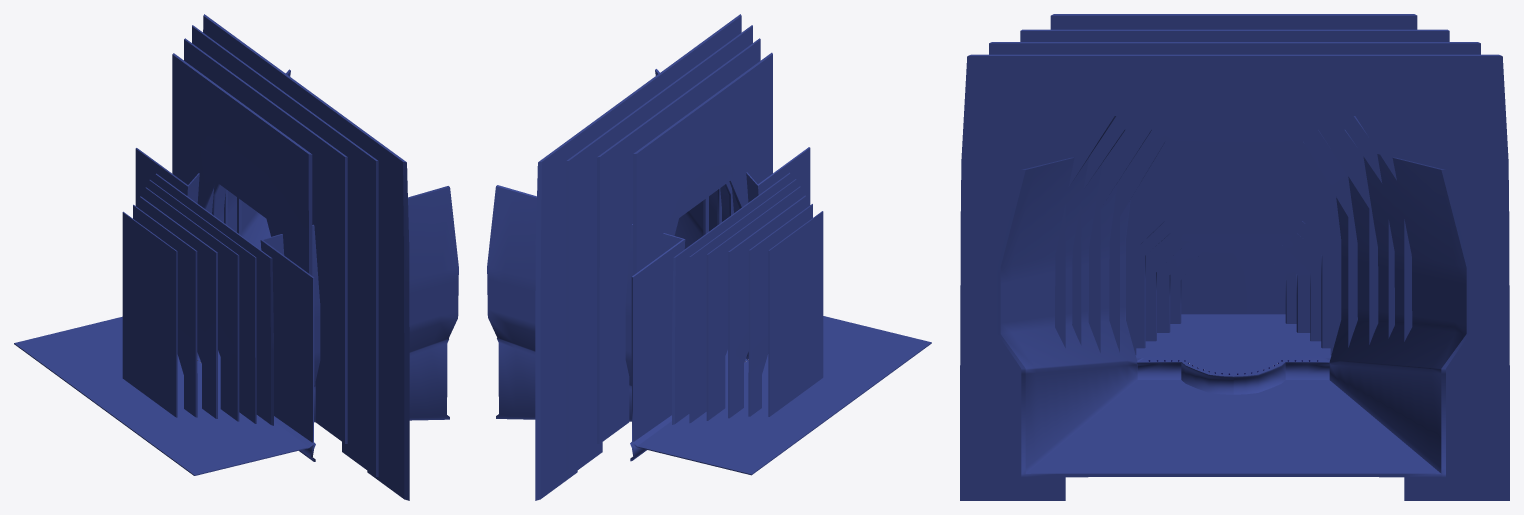
File: MDL_Origin_Stage_01.fbx
3 views of the same model, side by side, from view 1: azimuth 30°, elevation 25°; view 2: azimuth 150°, elevation 25°; view 3: azimuth 270°, elevation 25° (orthographic). The views are drawn at different scales.
Visible parts, largest first — view 1: MDL_Base_01, MDL_Wall_07, MDL_Wall_10, MDL_Wall_09, MDL_Wall_08, MDL_Wall_01, MDL_Wall_04, MDL_Wall_06, MDL_Wall_03, MDL_Wall_05, MDL_Wall_02; view 2: MDL_Base_01, MDL_Wall_07, MDL_Wall_10, MDL_Wall_09, MDL_Wall_08, MDL_Wall_01, MDL_Wall_04, MDL_Wall_06, MDL_Wall_03, MDL_Wall_05, MDL_Wall_02; view 3: MDL_Base_01, MDL_Wall_10, MDL_Wall_06, MDL_Wall_07, MDL_Wall_09, MDL_Wall_08, MDL_Wall_01, MDL_Wall_04, MDL_Wall_05, MDL_Wall_03, MDL_Wall_02.
Boxes of the visible parts, bbox=[...] form: MDL_Base_01: bbox=[14, 69, 458, 475]; MDL_Wall_07: bbox=[172, 53, 312, 275]; MDL_Wall_10: bbox=[203, 14, 409, 500]; MDL_Wall_09: bbox=[192, 25, 378, 476]; MDL_Wall_08: bbox=[184, 38, 347, 443]; MDL_Wall_01: bbox=[122, 211, 177, 417]; MDL_Wall_04: bbox=[145, 187, 239, 421]; MDL_Wall_06: bbox=[155, 173, 273, 425]; MDL_Wall_03: bbox=[140, 196, 217, 418]; MDL_Wall_05: bbox=[149, 180, 256, 423]; MDL_Wall_02: bbox=[133, 204, 197, 417]; MDL_Base_01: bbox=[487, 69, 931, 475]; MDL_Wall_07: bbox=[633, 52, 772, 275]; MDL_Wall_10: bbox=[535, 14, 741, 500]; MDL_Wall_09: bbox=[566, 25, 752, 476]; MDL_Wall_08: bbox=[597, 38, 760, 443]; MDL_Wall_01: bbox=[768, 211, 823, 416]; MDL_Wall_04: bbox=[706, 186, 800, 420]; MDL_Wall_06: bbox=[672, 172, 790, 424]; MDL_Wall_03: bbox=[728, 195, 805, 418]; MDL_Wall_05: bbox=[689, 179, 796, 423]; MDL_Wall_02: bbox=[748, 204, 812, 416]; MDL_Base_01: bbox=[997, 154, 1469, 477]; MDL_Wall_10: bbox=[960, 54, 1509, 500]; MDL_Wall_06: bbox=[1126, 141, 1341, 355]; MDL_Wall_07: bbox=[1050, 14, 1417, 352]; MDL_Wall_09: bbox=[989, 42, 1480, 345]; MDL_Wall_08: bbox=[1020, 29, 1449, 352]; MDL_Wall_01: bbox=[1181, 252, 1285, 314]; MDL_Wall_04: bbox=[1145, 233, 1321, 341]; MDL_Wall_05: bbox=[1136, 221, 1330, 348]; MDL_Wall_03: bbox=[1157, 243, 1310, 332]; MDL_Wall_02: bbox=[1170, 250, 1296, 323].
Size of the model in its own units: 4852 by 5879 by 6586.
